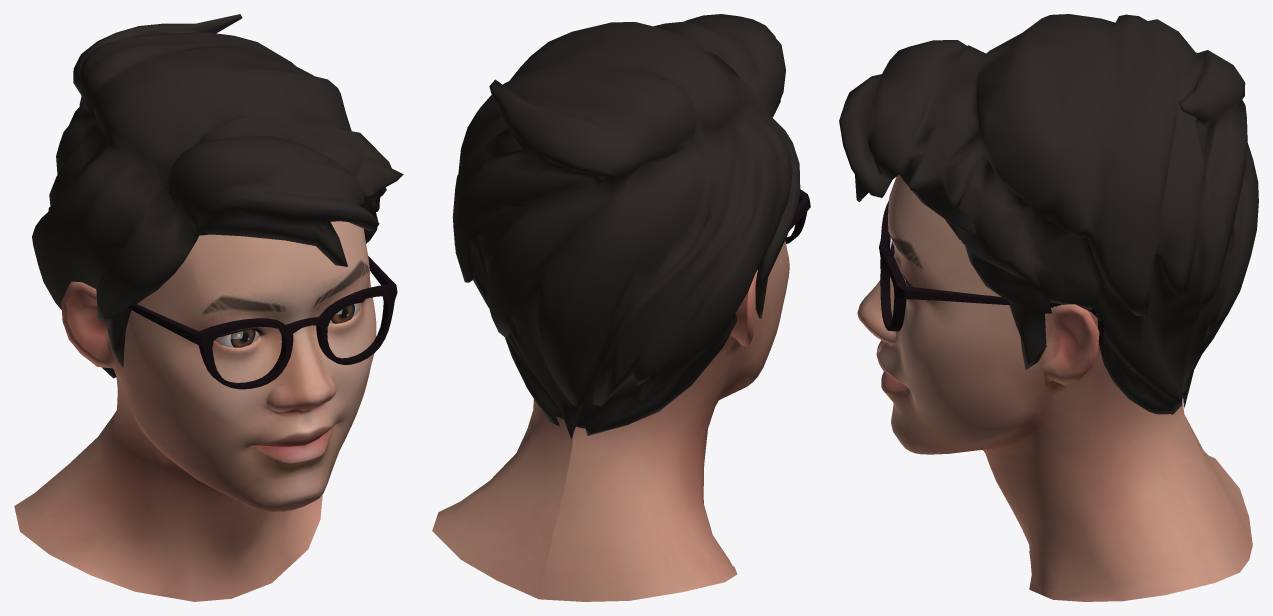
The model's file is cabeza.obj.
The picture shows the model from 3 angles, left to right: view 1: azimuth 30°, elevation 25°; view 2: azimuth 150°, elevation 25°; view 3: azimuth 270°, elevation 25°; orthographic projection.
Visible parts, largest first — view 1: node_id788, node_id806, node_id809, node_id785; view 2: node_id806, node_id788, node_id809; view 3: node_id806, node_id788, node_id809.
Part boxes in pixels (x1,y1,x2,y2): node_id788: (14, 221, 376, 601); node_id806: (32, 14, 403, 378); node_id809: (128, 256, 397, 389); node_id785: (215, 329, 259, 347); node_id806: (452, 14, 800, 439); node_id788: (432, 240, 789, 601); node_id809: (733, 189, 810, 319); node_id806: (839, 14, 1258, 414); node_id788: (857, 175, 1252, 601); node_id809: (879, 201, 1103, 345).
Size of the model in its own units: 0.1951 by 0.3364 by 0.2389.
Materials: 6 (6 with a texture image).
